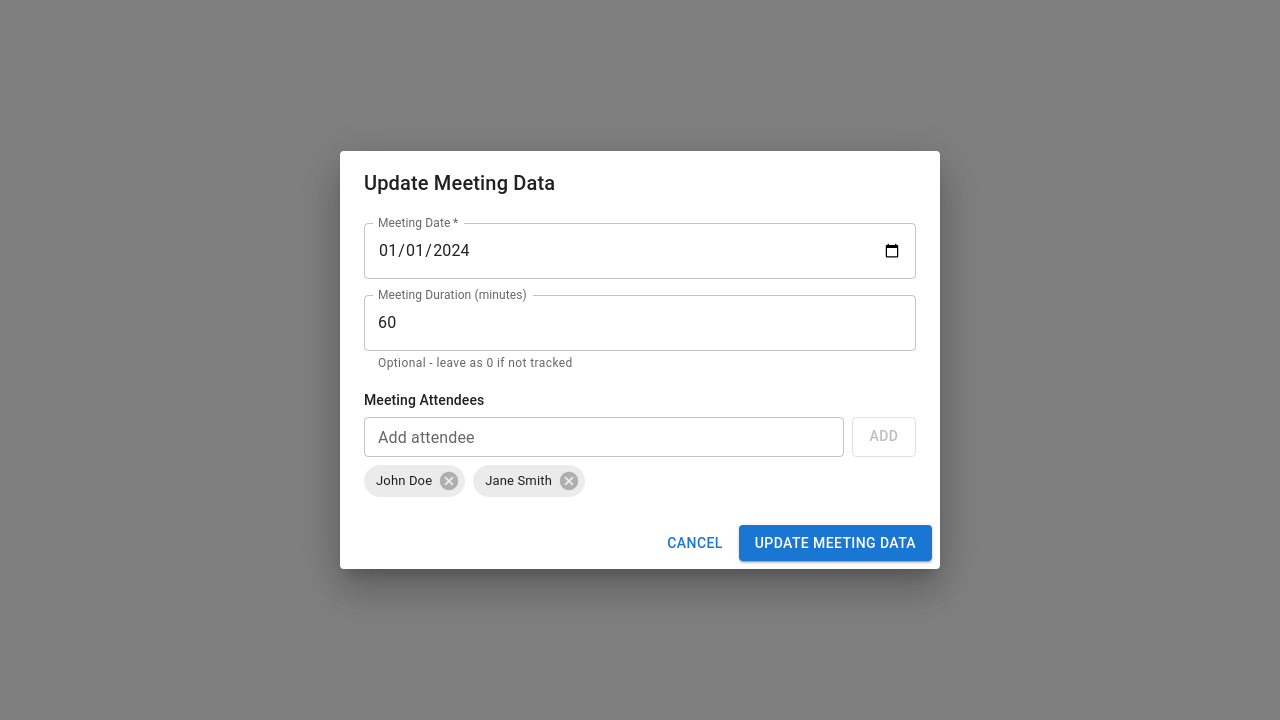
Test: MeetingDataForm › handles network error
Step 1. Click the button "Update Meeting Data" → point(835, 543), box [739,525,932,561]
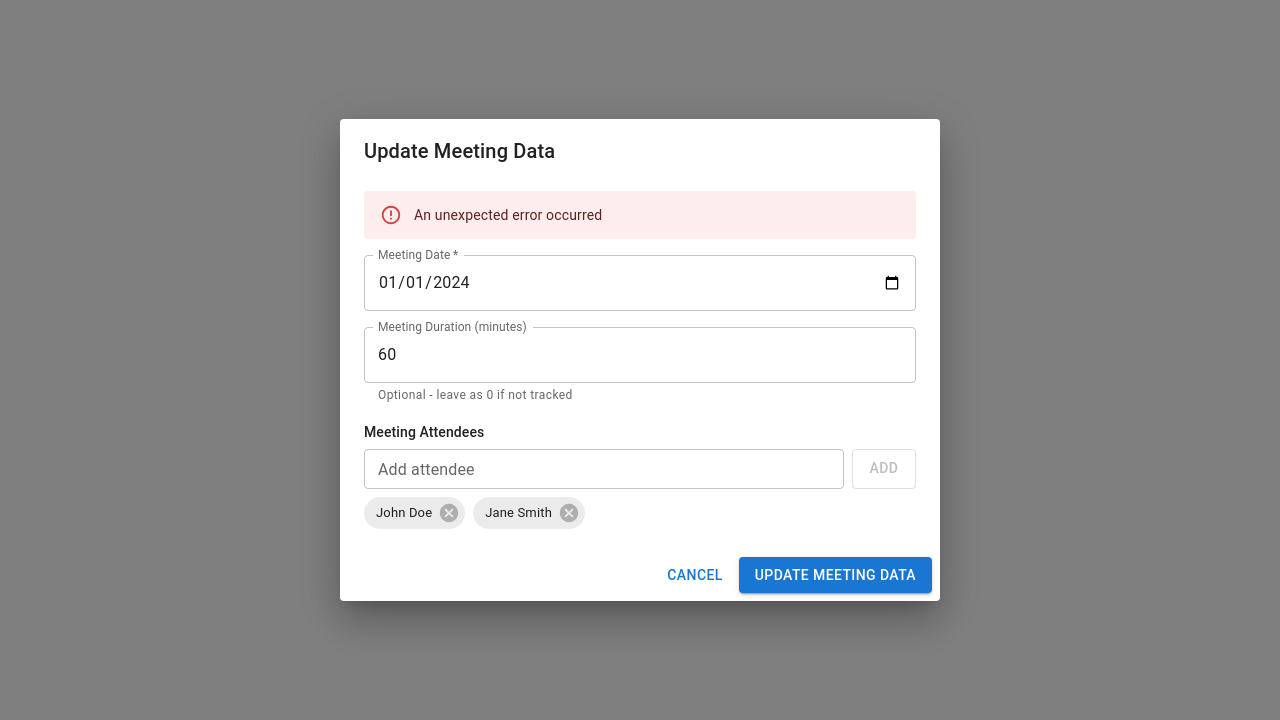
Expected: the text "An unexpected error occurred" is shown, [414,207,602,223]
